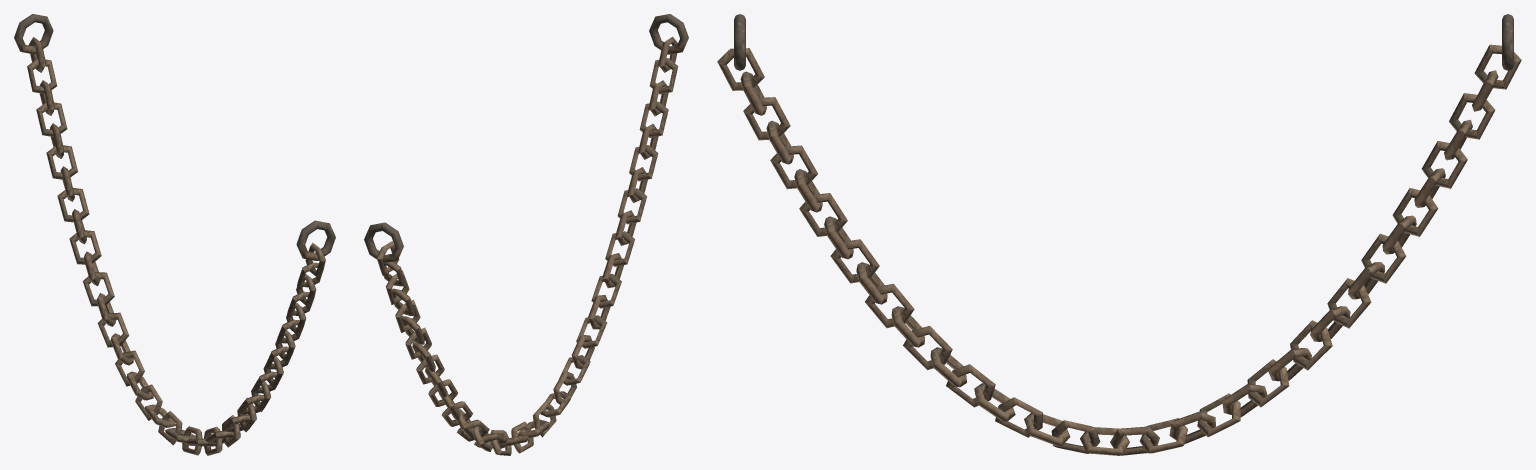
The picture shows the model from 3 angles, left to right: view 1: azimuth 30°, elevation 25°; view 2: azimuth 150°, elevation 25°; view 3: azimuth 270°, elevation 25°; orthographic projection. The views are drawn at different scales.
Parts seen in each view (by area): view 1: SM_DR_CeilingChain_Joint_4m_LOD0; view 2: SM_DR_CeilingChain_Joint_4m_LOD0; view 3: SM_DR_CeilingChain_Joint_4m_LOD0.
Part boxes in pixels (box(x1,y1,x2,y2)): SM_DR_CeilingChain_Joint_4m_LOD0: box(14, 14, 335, 455); SM_DR_CeilingChain_Joint_4m_LOD0: box(364, 14, 688, 455); SM_DR_CeilingChain_Joint_4m_LOD0: box(717, 14, 1521, 455).
Bounding box in the file's own units: 0.3157 × 2.54 × 4.19.
Materials: 1 (1 with a texture image).
